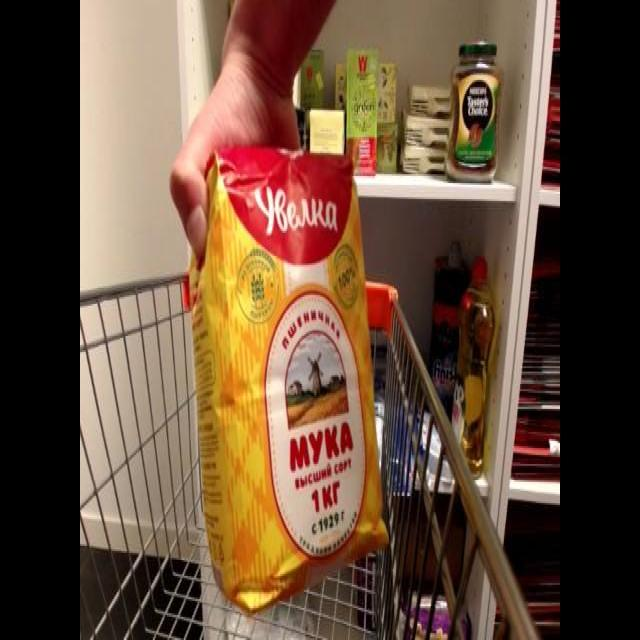Flour: (188, 148, 382, 615)
